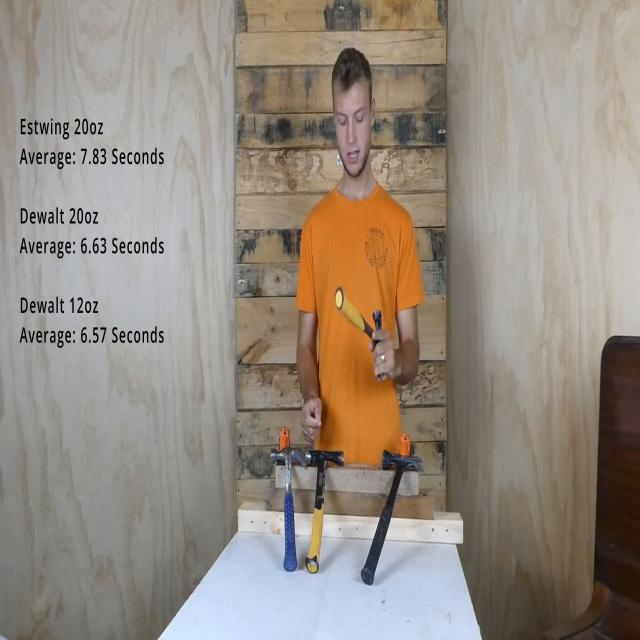hammer: (362, 449, 424, 586), (306, 450, 344, 576), (335, 287, 386, 380), (271, 447, 307, 572)
